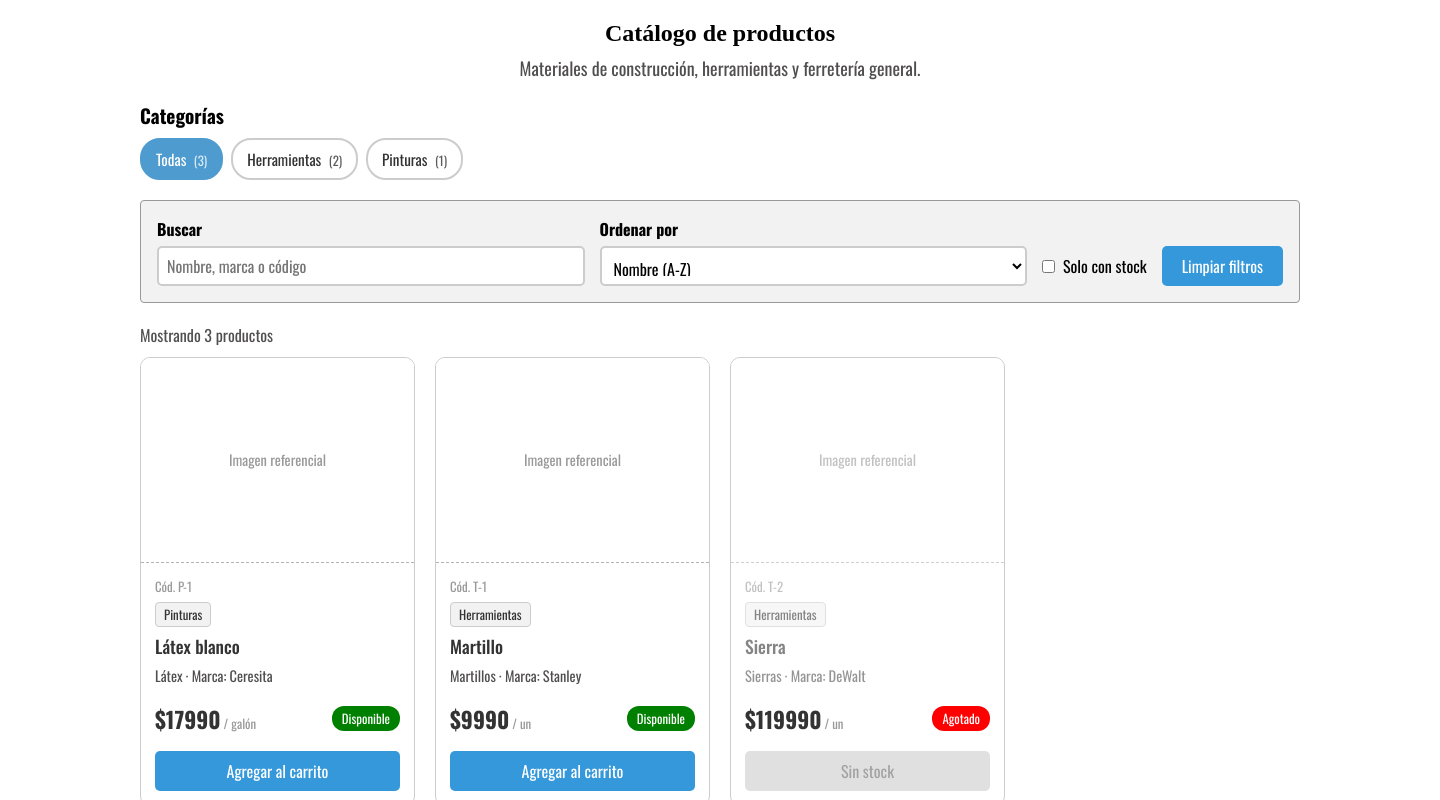
Test: Catalogo › filtra por categoría al hacer click en un chip
Click the button "Pinturas (1)".
click(415, 159)  # box [366,138,463,180]
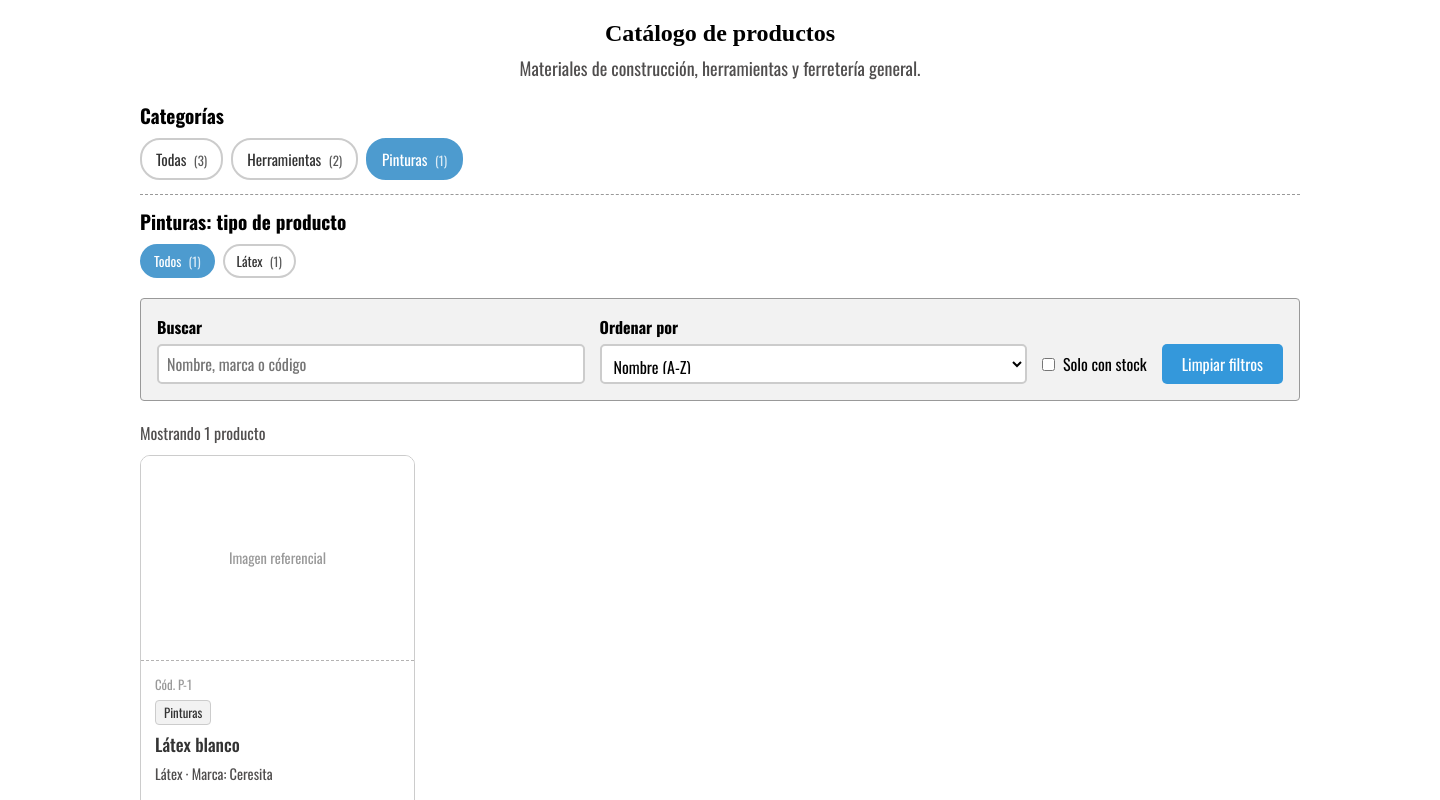
Expected: the heading "Látex blanco" is shown, [155,731,240,757]
Expected: the text "Mostrando 1 producto" is shown, [140,421,266,445]
